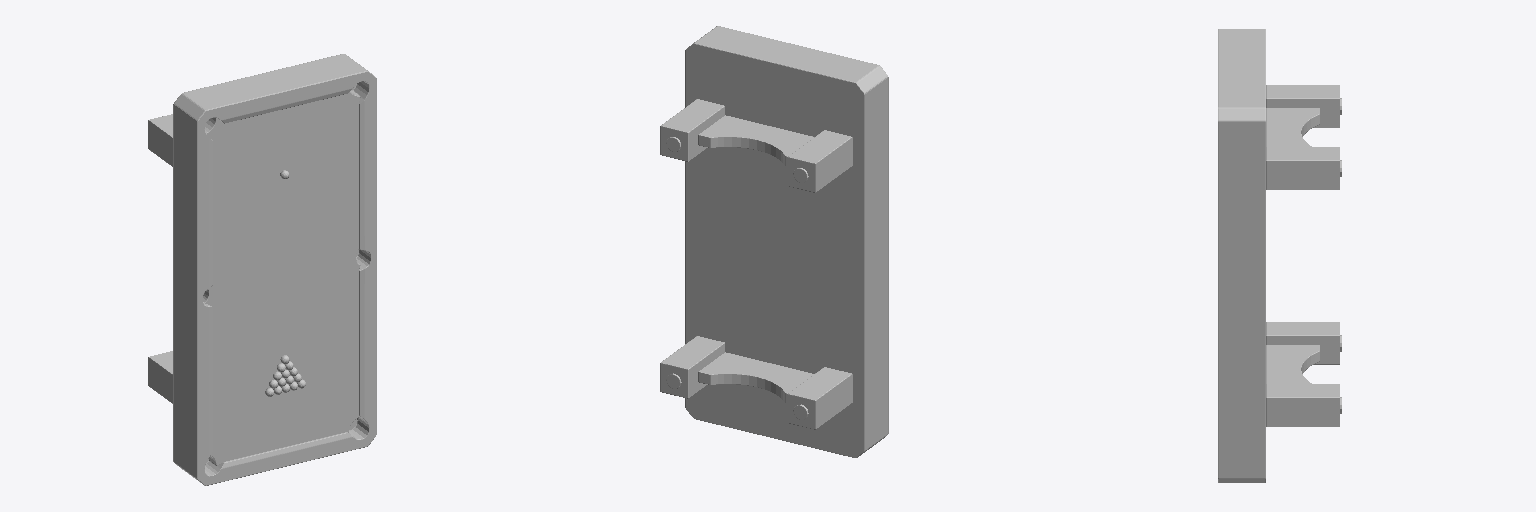
The model's file is pool_table.obj.
The picture shows the model from 3 angles: view 1: azimuth 30°, elevation 25°; view 2: azimuth 150°, elevation 25°; view 3: azimuth 270°, elevation 25°; orthographic projection.
Visible parts, largest first — view 1: pool_table; view 2: pool_table; view 3: pool_table.
Boxes of the visible parts, x1,y1,x2,y2 form: pool_table: [148, 54, 376, 485]; pool_table: [660, 26, 888, 457]; pool_table: [1218, 29, 1341, 482].
Size of the model in its own units: 127 by 254 by 76.36.